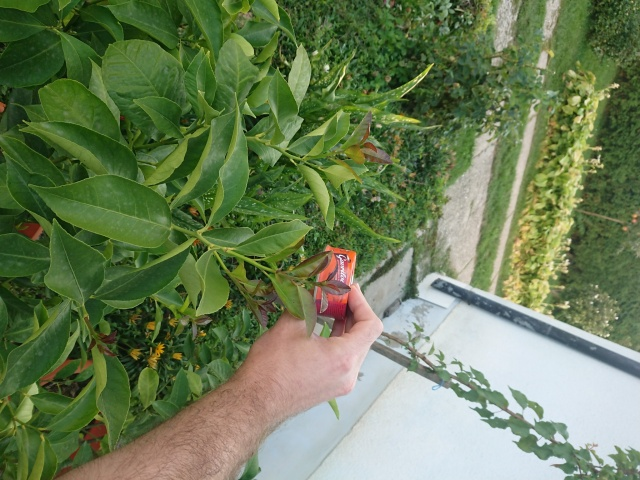Gavrilovic Pork Liver Pate 100g: (310, 243, 358, 321)
